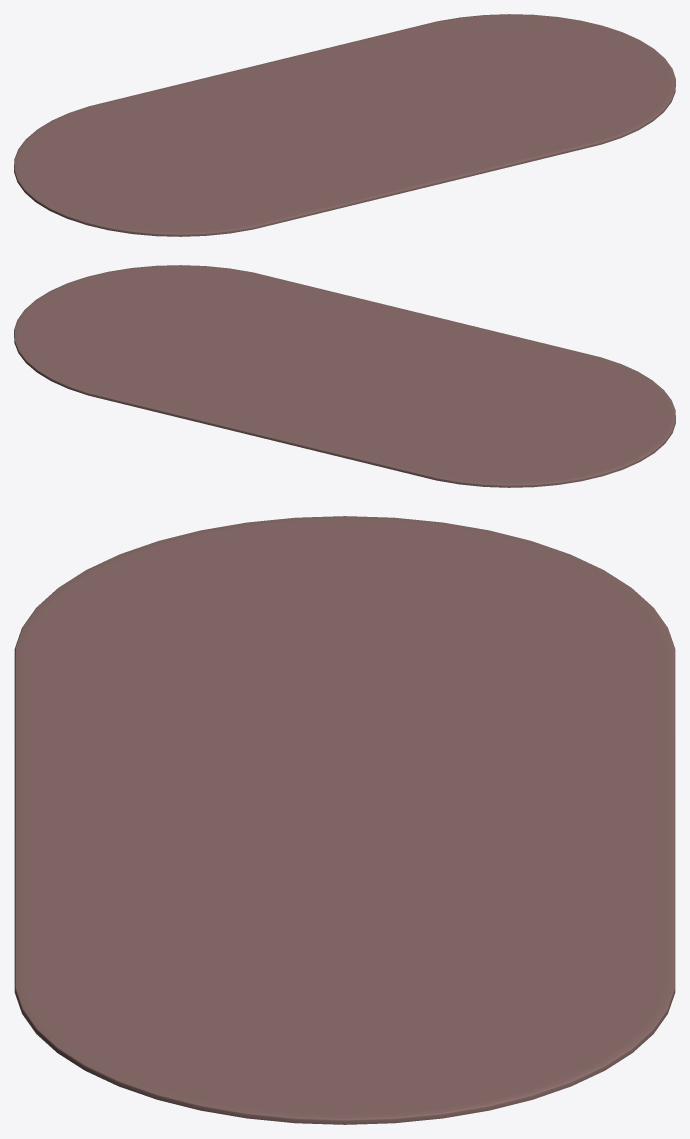
File: bench_long_carpet_01.fbx
3 views of the same model, one above another, from view 1: azimuth 30°, elevation 25°; view 2: azimuth 150°, elevation 25°; view 3: azimuth 270°, elevation 25° (orthographic). The views are drawn at different scales.
Parts seen in each view (by area): view 1: polySurface15; view 2: polySurface15; view 3: polySurface15.
Part boxes in pixels (x1,y1,x2,y2): polySurface15: (14,14,675,236); polySurface15: (14,265,675,487); polySurface15: (14,516,675,1124).
Bounding box in the file's own units: 6.49 × 0.0265 × 3.
